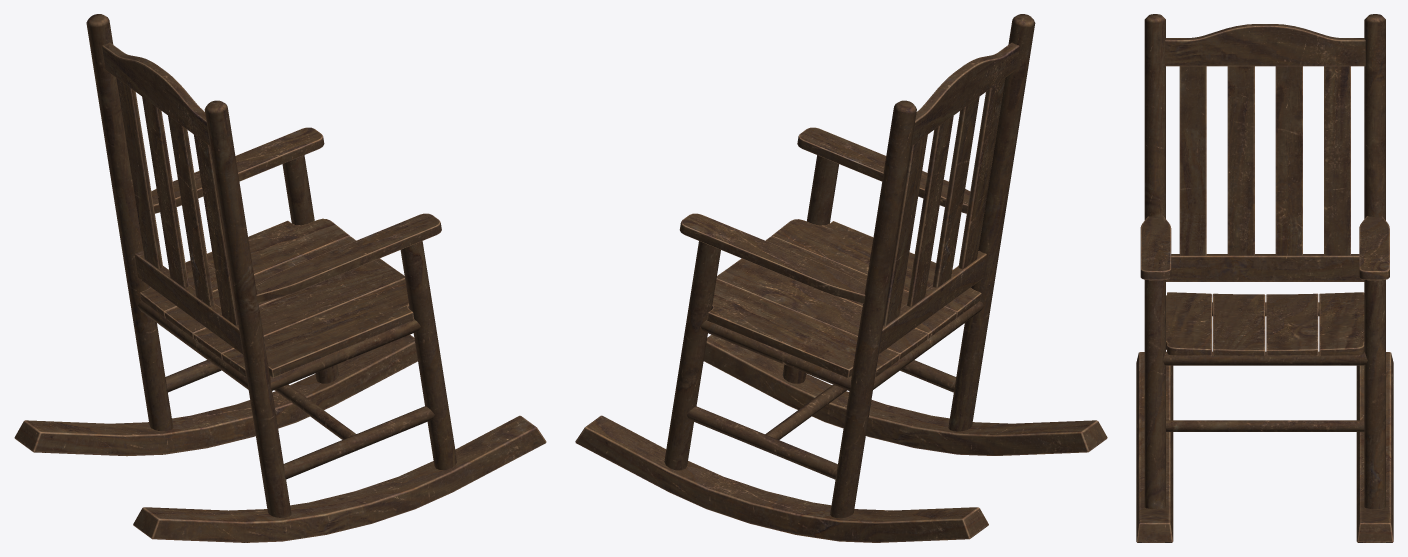
The picture shows the model from 3 angles, left to right: view 1: azimuth 30°, elevation 25°; view 2: azimuth 150°, elevation 25°; view 3: azimuth 270°, elevation 25°; orthographic projection. The views are drawn at different scales.
Visible parts, largest first — view 1: Chair; view 2: Chair; view 3: Chair.
Boxes of the visible parts, box(x1,y1,x2,y2) form: Chair: box(14, 14, 546, 542); Chair: box(575, 14, 1107, 542); Chair: box(1136, 14, 1393, 542).
Size of the model in its own units: 0.7857 by 0.8539 by 0.477.
1 material, 1 textured.
